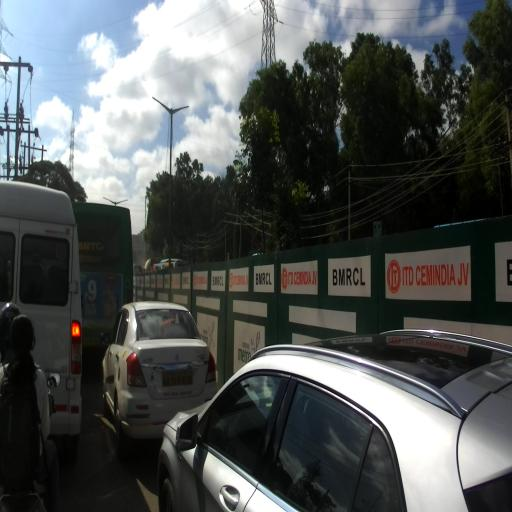street_light_0: (152, 96, 173, 118), (170, 106, 190, 118), (103, 196, 116, 206), (115, 199, 128, 206)
